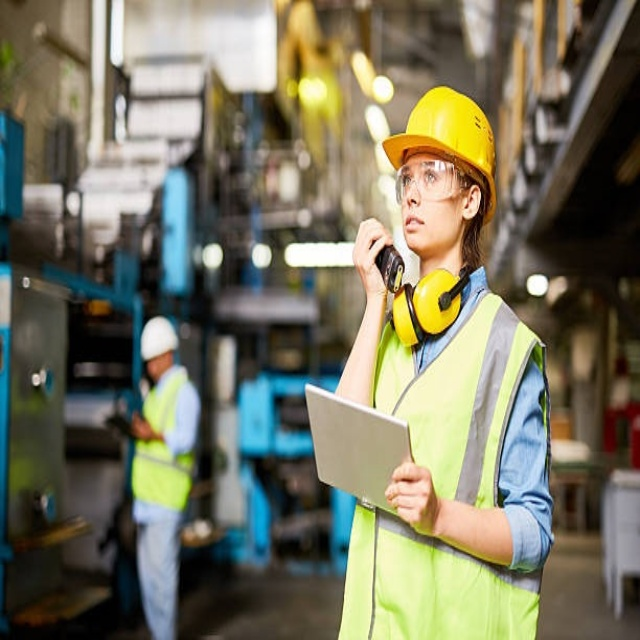Gafas: (396, 158, 478, 205)
Sin_guantes: (384, 458, 438, 532), (350, 215, 394, 295)
Sin_mascara: (402, 205, 433, 249)
